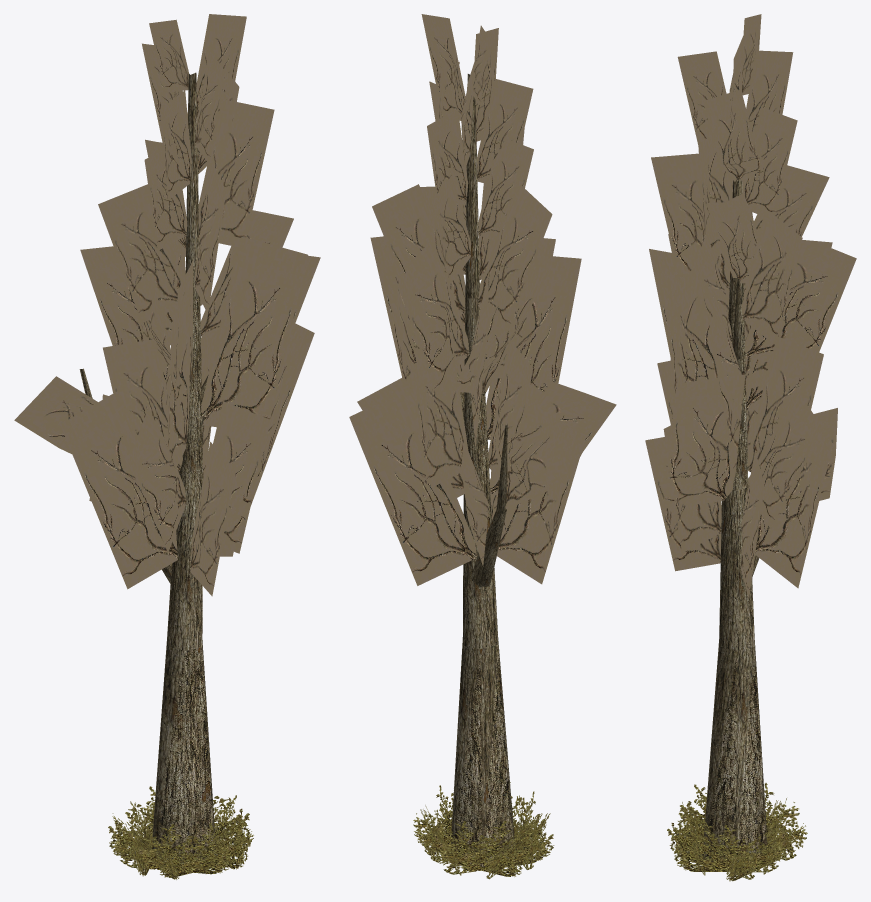
File: w_cd_twig01_tree01.glb
3 renders of one model, left to right at view 1: azimuth 30°, elevation 25°; view 2: azimuth 150°, elevation 25°; view 3: azimuth 270°, elevation 25°, orthographic.
Parts seen in each view (by area): view 1: w_cd_twig01_tree03, w_cd_twig01_tree01, w_cd_twig01_tree02; view 2: w_cd_twig01_tree03, w_cd_twig01_tree01, w_cd_twig01_tree02; view 3: w_cd_twig01_tree03, w_cd_twig01_tree01, w_cd_twig01_tree02.
Part boxes in pixels (left/top/right/bottom): w_cd_twig01_tree03: left=14, top=14, right=320, bottom=596; w_cd_twig01_tree01: left=79, top=72, right=215, bottom=869; w_cd_twig01_tree02: left=108, top=786, right=253, bottom=879; w_cd_twig01_tree03: left=349, top=14, right=616, bottom=585; w_cd_twig01_tree01: left=451, top=74, right=514, bottom=866; w_cd_twig01_tree02: left=413, top=782, right=554, bottom=879; w_cd_twig01_tree03: left=645, top=14, right=856, bottom=599; w_cd_twig01_tree01: left=703, top=180, right=767, bottom=862; w_cd_twig01_tree02: left=667, top=783, right=807, bottom=881.
Bounding box in the file's own units: 11.23 × 35.62 × 8.14.
Materials: 3 (3 with a texture image).
